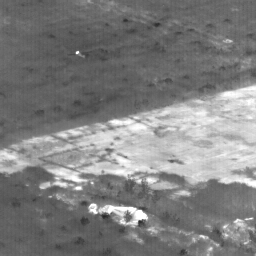aircraft: (76, 52, 78, 54)
